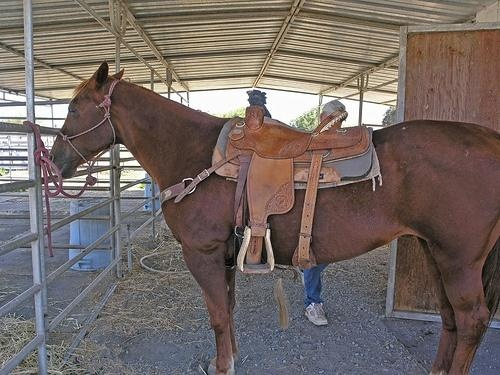horse: (47, 60, 500, 375)
